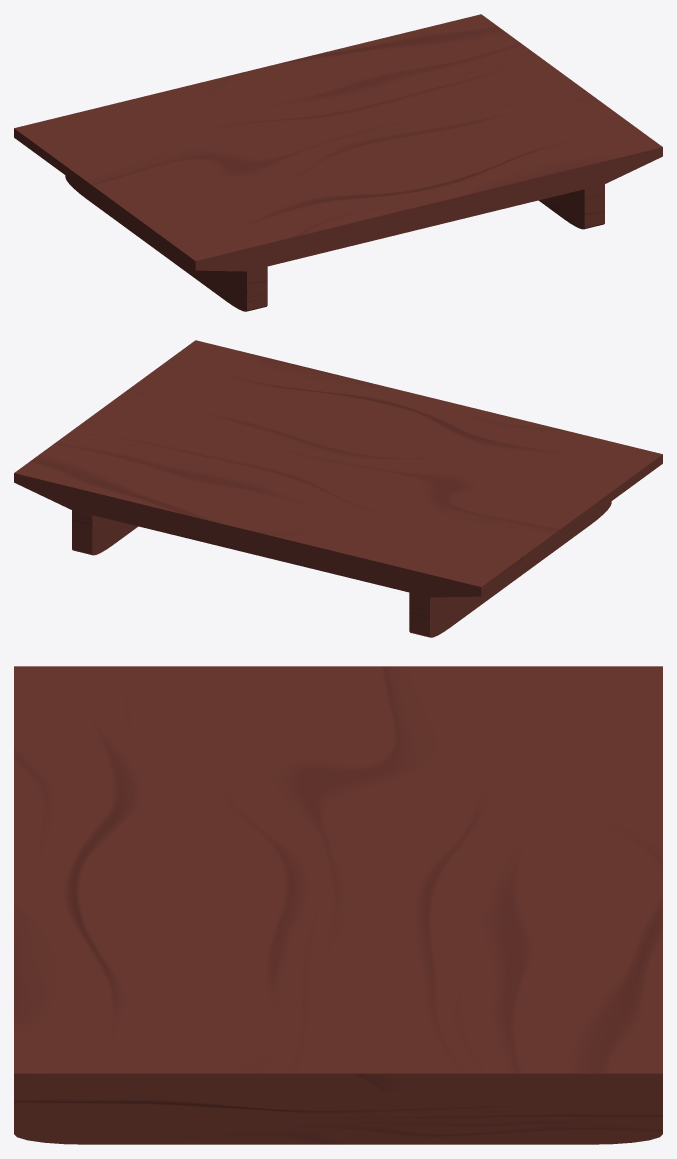
Rendered from sushisunumtahta.fbx.
3 renders of one model, top to bottom at view 1: azimuth 30°, elevation 25°; view 2: azimuth 150°, elevation 25°; view 3: azimuth 270°, elevation 25°, orthographic. The views are drawn at different scales.
Visible parts, largest first — view 1: sushi_sunum_tahtasi; view 2: sushi_sunum_tahtasi; view 3: sushi_sunum_tahtasi.
Boxes of the visible parts, <box> form: sushi_sunum_tahtasi: <box>14,14,662,311</box>; sushi_sunum_tahtasi: <box>14,340,662,637</box>; sushi_sunum_tahtasi: <box>14,666,662,1144</box>.
Size of the model in its own units: 662 by 91.99 by 446.
